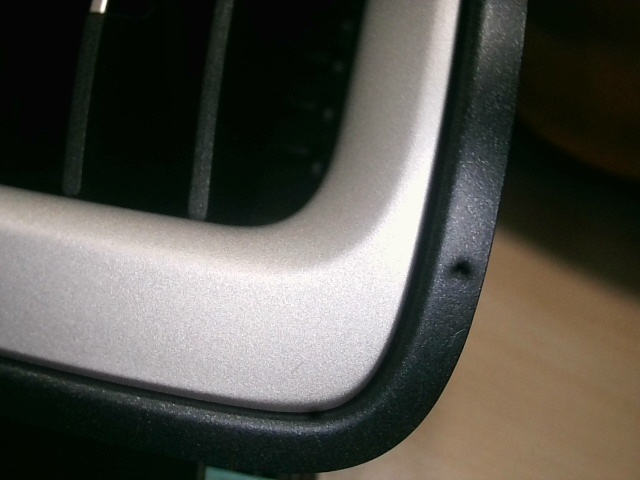NG: (285, 354, 316, 383), (449, 323, 471, 347)
